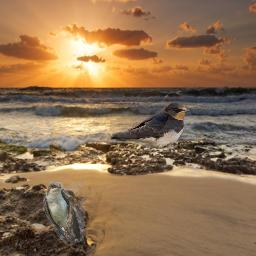Swallow: (110, 101, 190, 152), (43, 182, 85, 245)
